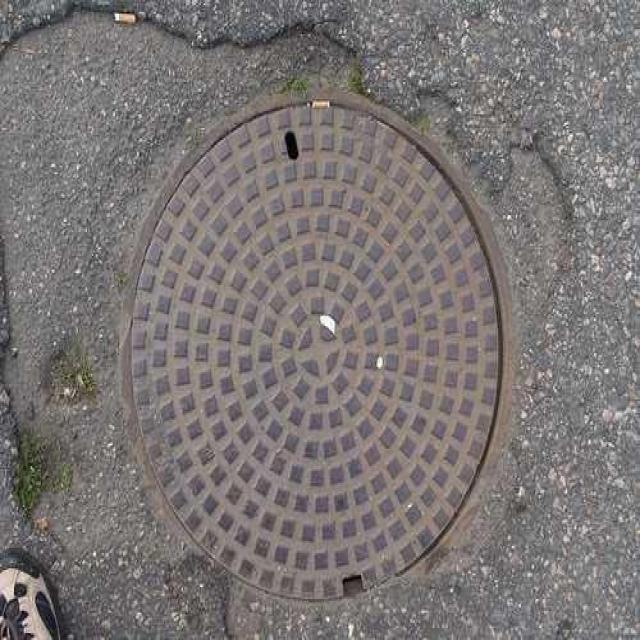manhole: (124, 90, 511, 599)
